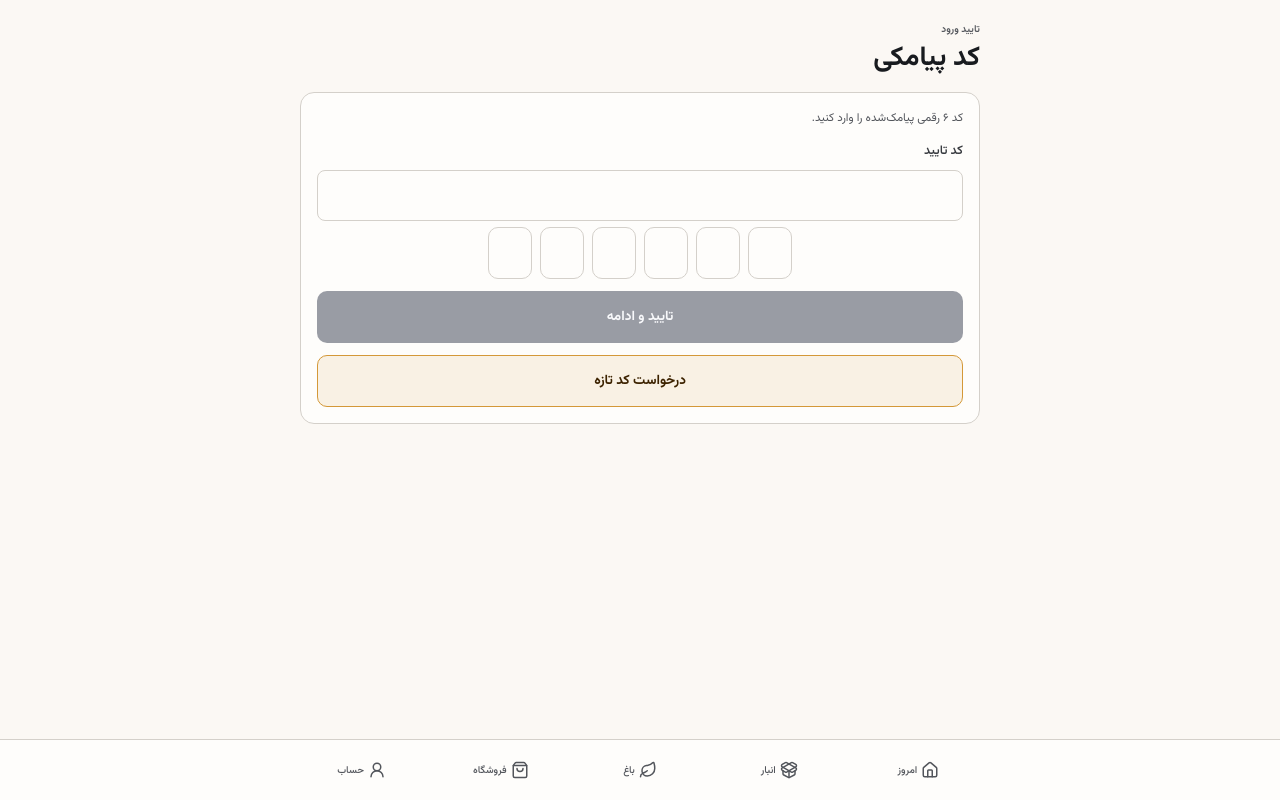
Test case: canonical T8 onboarding forms › shows a distinct inline banner for OTP invalid without exposing tokens
Type "123456" into the field labelled "کد تایید".
click(640, 196); type("123456")  # box [317,170,963,221]
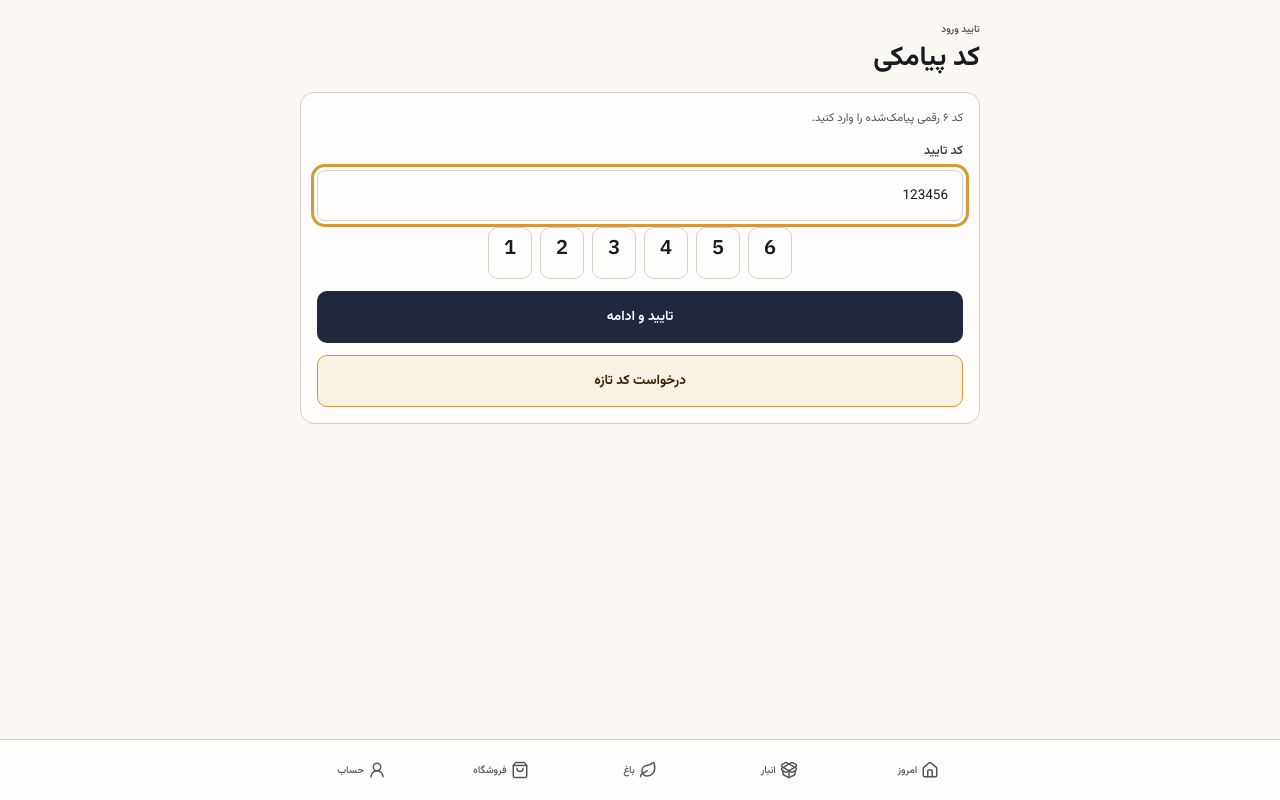
Click the button "تایید و ادامه".
click(640, 317)  # box [317,291,963,343]
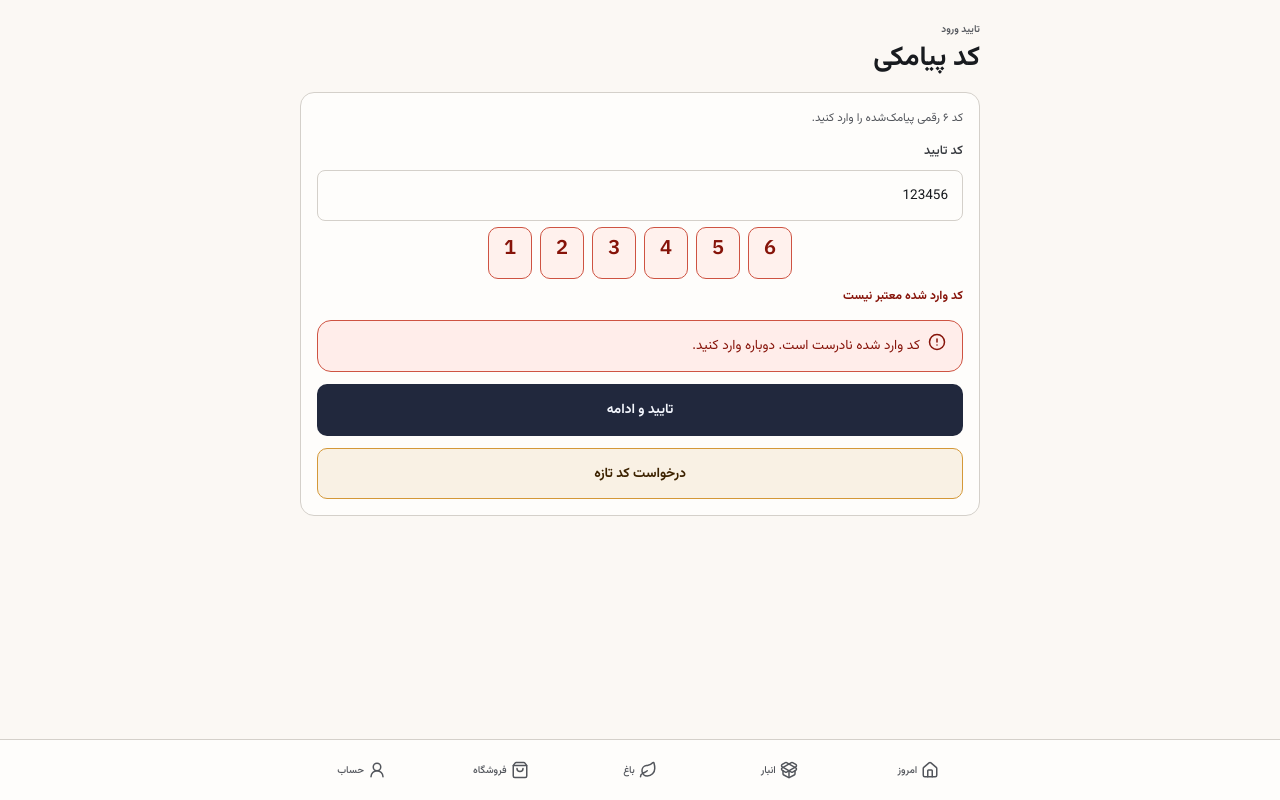
Expected: the text "کد وارد شده نادرست است. دوباره وارد کنید." is shown, [692,333,920,359]
